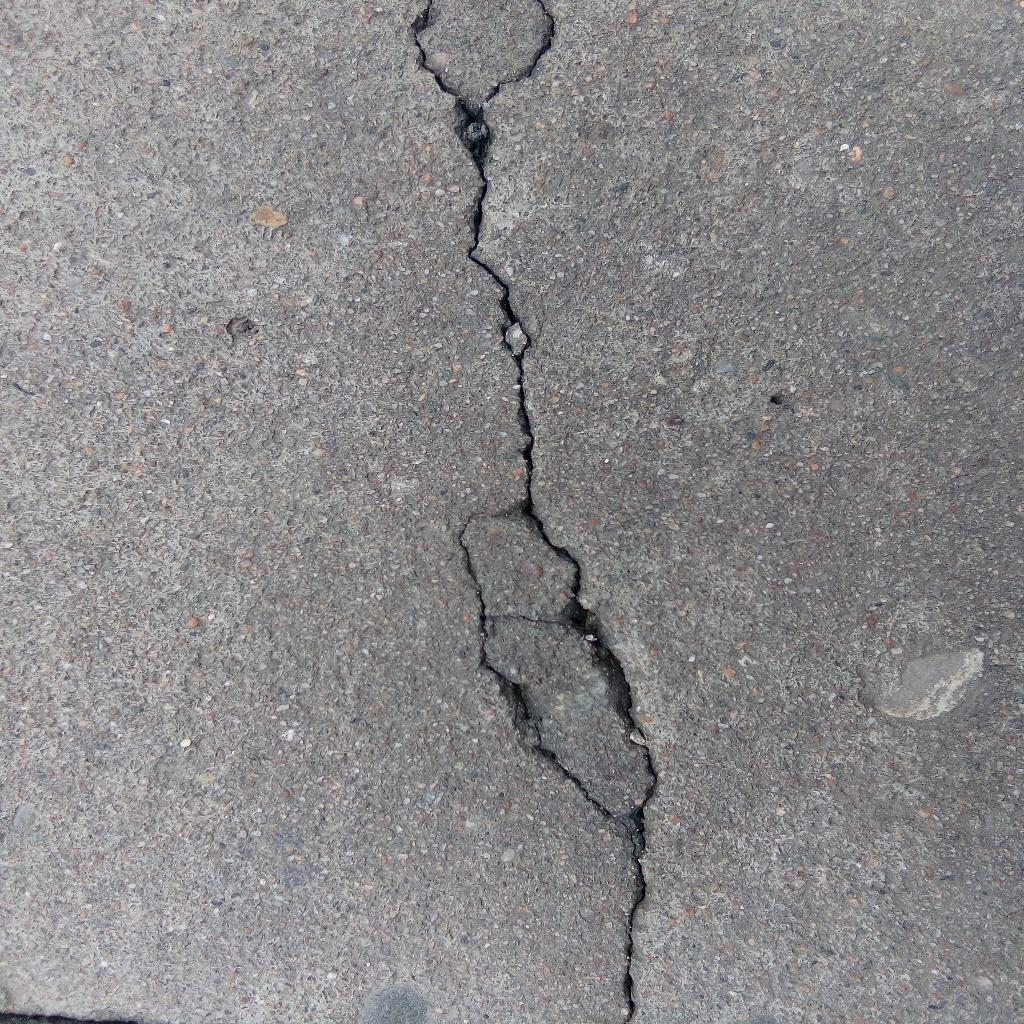Crack: (409, 1, 658, 1024)
